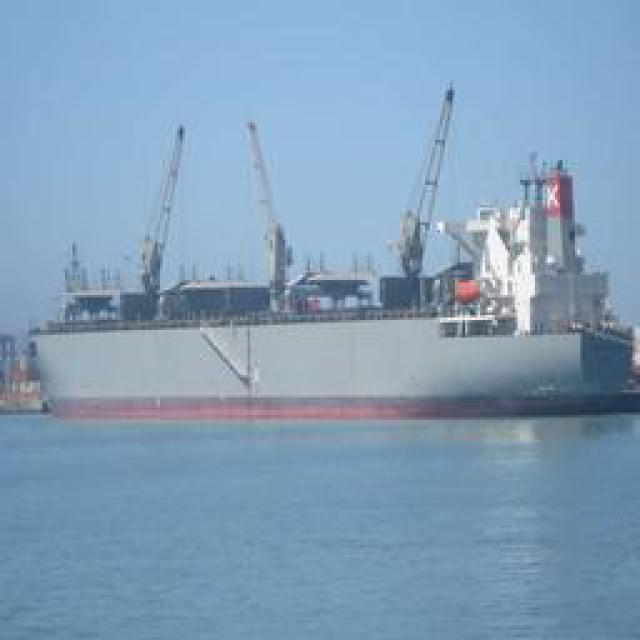Ship: (25, 99, 640, 432)
